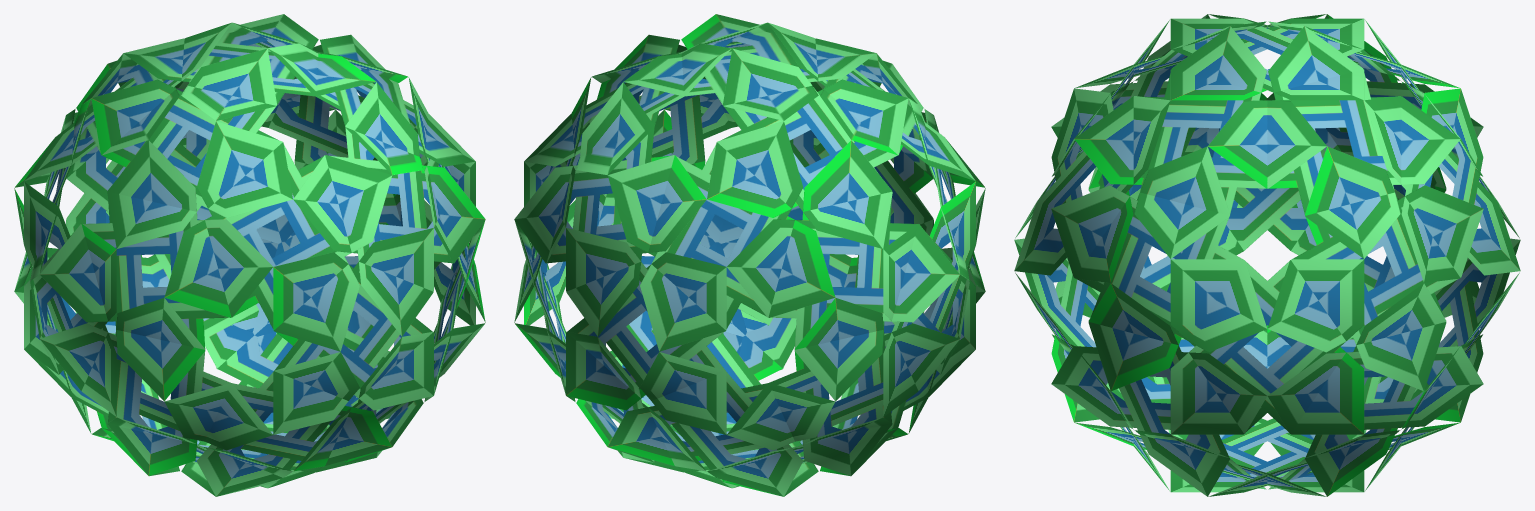
Rendered from 26Rhombidodecadodecahedron.gltf.
3 renders of one model, left to right at view 1: azimuth 30°, elevation 25°; view 2: azimuth 150°, elevation 25°; view 3: azimuth 270°, elevation 25°, orthographic. The views are drawn at different scales.
Parts seen in each view (by area): view 1: Rhombidodecadodecahedron9; view 2: Rhombidodecadodecahedron9; view 3: Rhombidodecadodecahedron9.
Part boxes in pixels (<box>): Rhombidodecadodecahedron9: <box>14,14,485,496</box>; Rhombidodecadodecahedron9: <box>514,14,985,496</box>; Rhombidodecadodecahedron9: <box>1014,14,1520,496</box>.
Bounding box in the file's own units: 2.62 × 2.62 × 2.62.
1 material, 1 textured.
